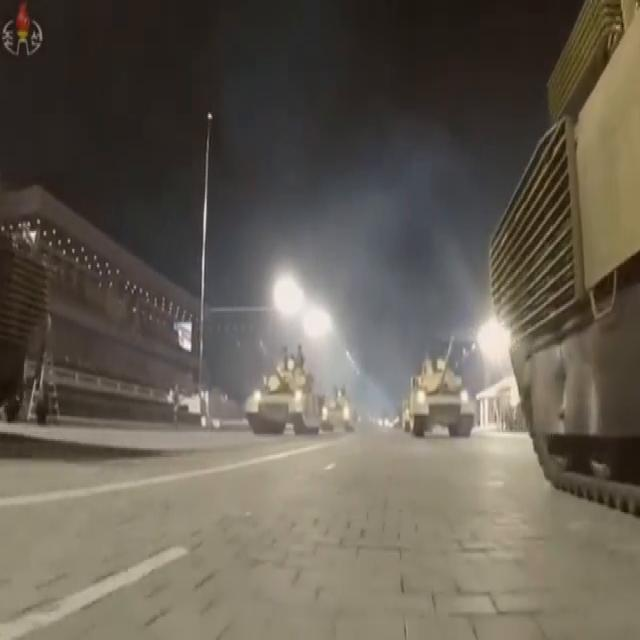north tank: (485, 6, 640, 562), (244, 330, 340, 454), (389, 327, 478, 451)
